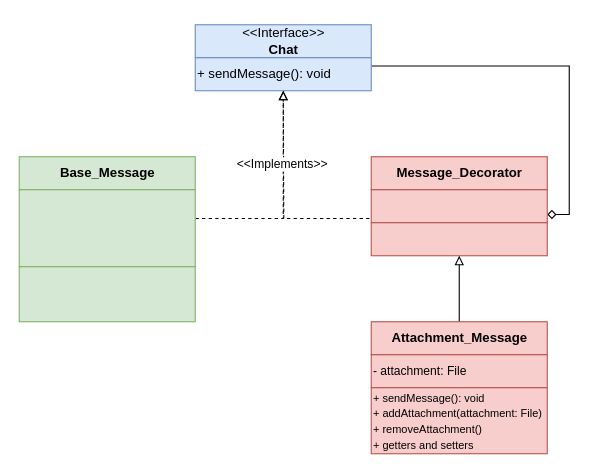
Image size: 597x473. Some labels were removed from this diagram. The shapes that lost their labels are listed below. From the top down, each one's centre as x and y in pixels, then its label:
At point (458, 206): "- chat: Chat".
At point (106, 228): "- sender: string - receiver: string - content: string - dateTime: Date".
At point (458, 239): "+ sendMessage() : void".
At point (106, 294): "+ sendMessage() : void + editMessage(newContent: string) + getters and setters".
